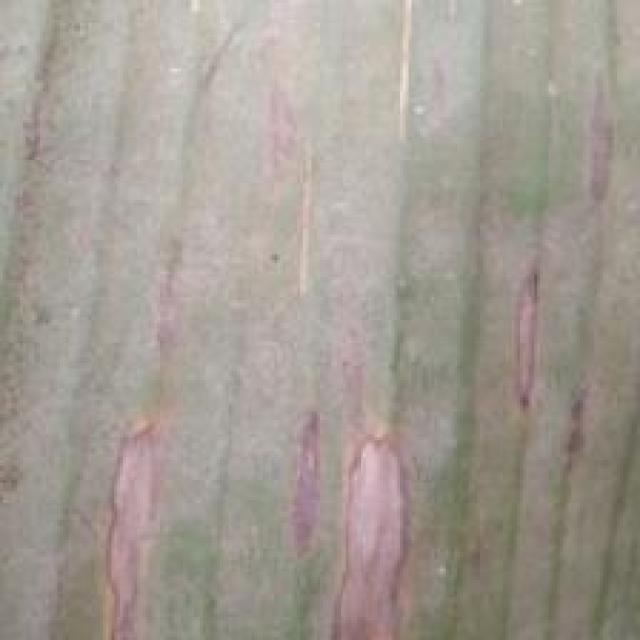Early_leaf_spot: (280, 376, 430, 640), (558, 42, 638, 461), (88, 408, 172, 636), (251, 65, 322, 268), (488, 245, 557, 427), (142, 210, 199, 348)
